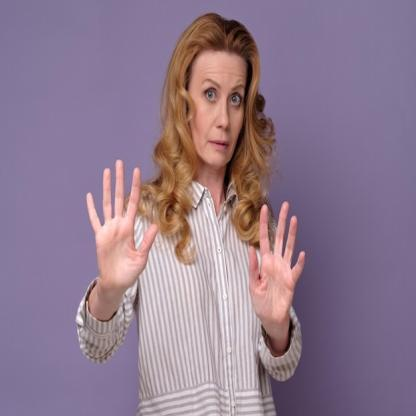stop: (80, 156, 158, 300), (243, 196, 308, 325)
